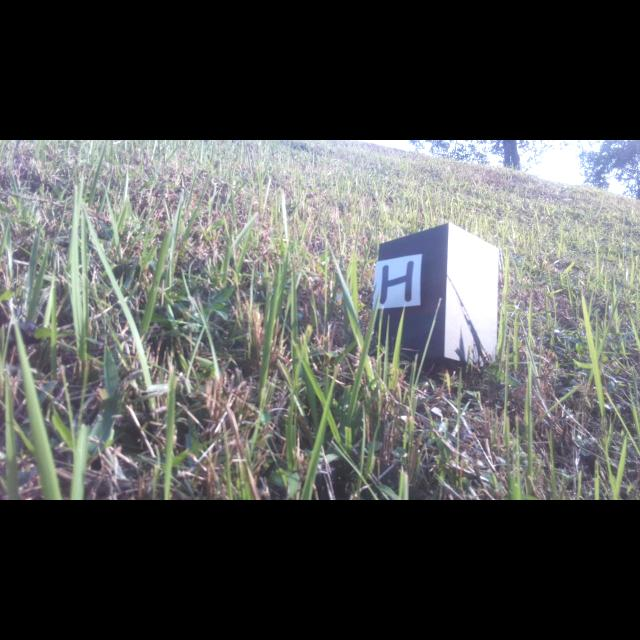H: (380, 261, 414, 304)
